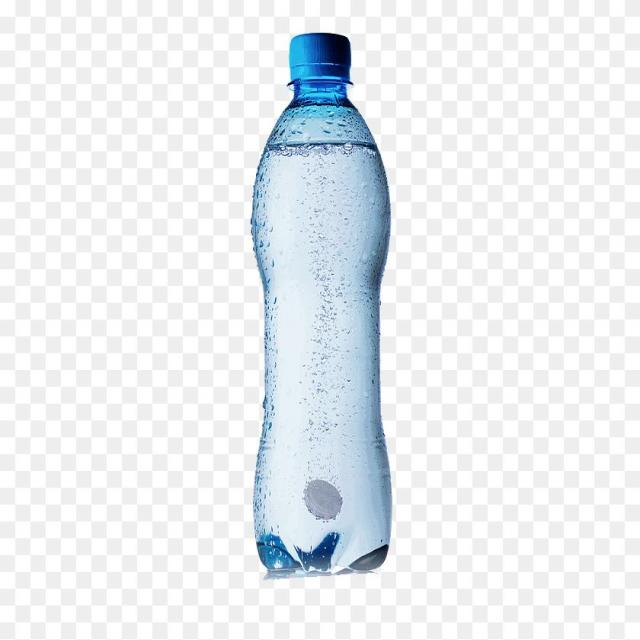bottle: (234, 24, 398, 589)
